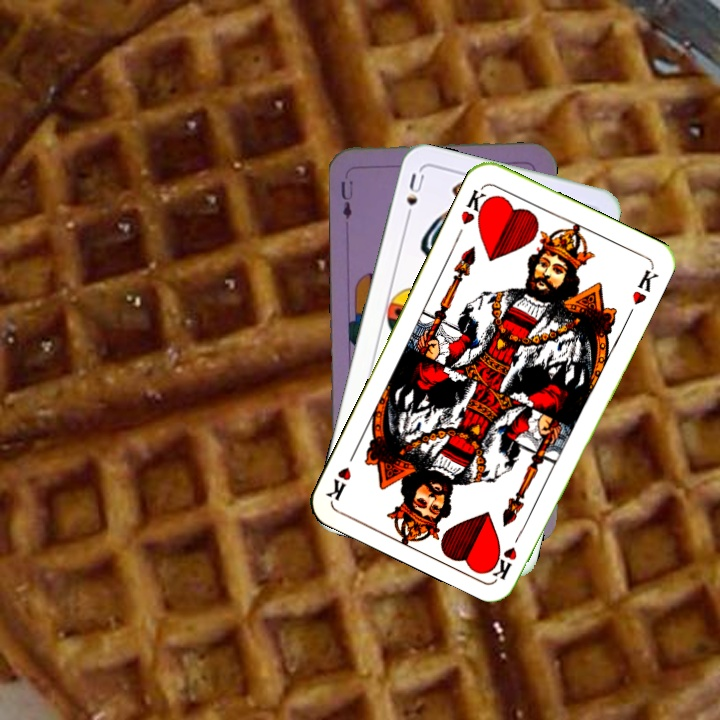EU: (337, 177, 356, 221)
HK: (489, 524, 527, 582), (456, 183, 494, 228)
SU: (401, 169, 427, 226)
